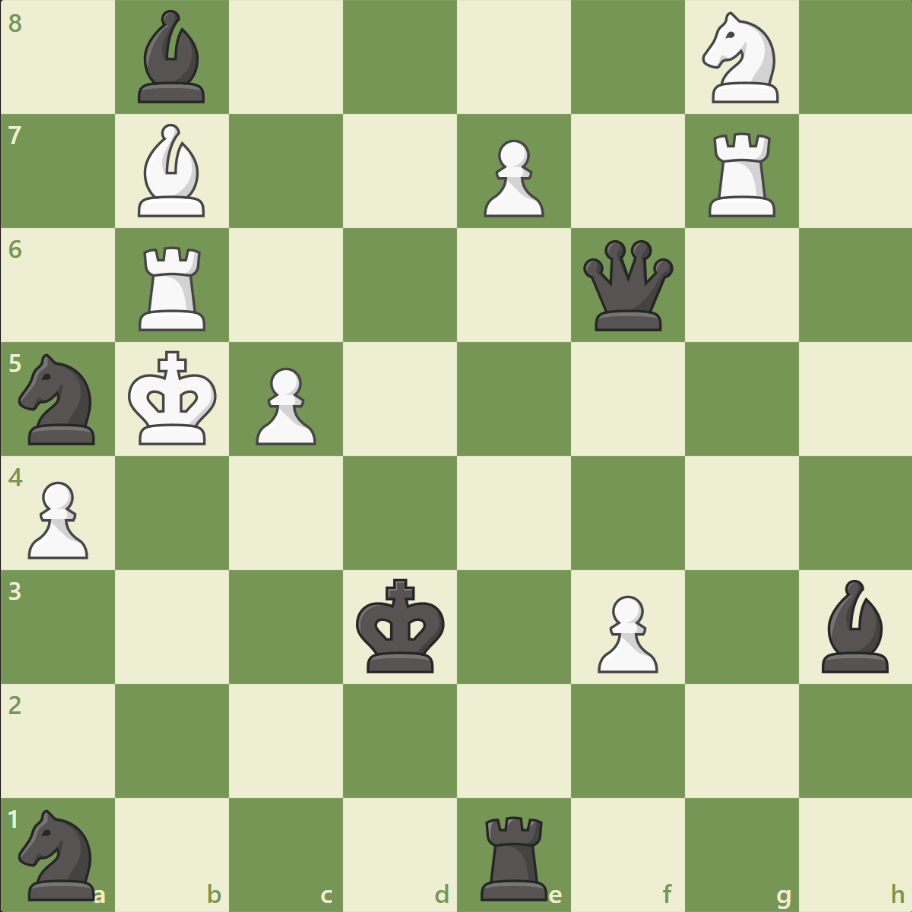B: (131, 120, 215, 222)
K: (124, 344, 224, 452)
N: (692, 7, 789, 110)
P: (474, 132, 549, 223), (247, 359, 322, 450), (20, 473, 95, 564), (588, 586, 662, 677)
R: (700, 125, 783, 222), (133, 239, 215, 336)
b: (131, 6, 215, 109), (812, 574, 896, 676)
k: (351, 571, 451, 679)
n: (11, 348, 108, 450), (11, 802, 108, 904)
q: (578, 236, 677, 335)
r: (473, 806, 556, 904)
